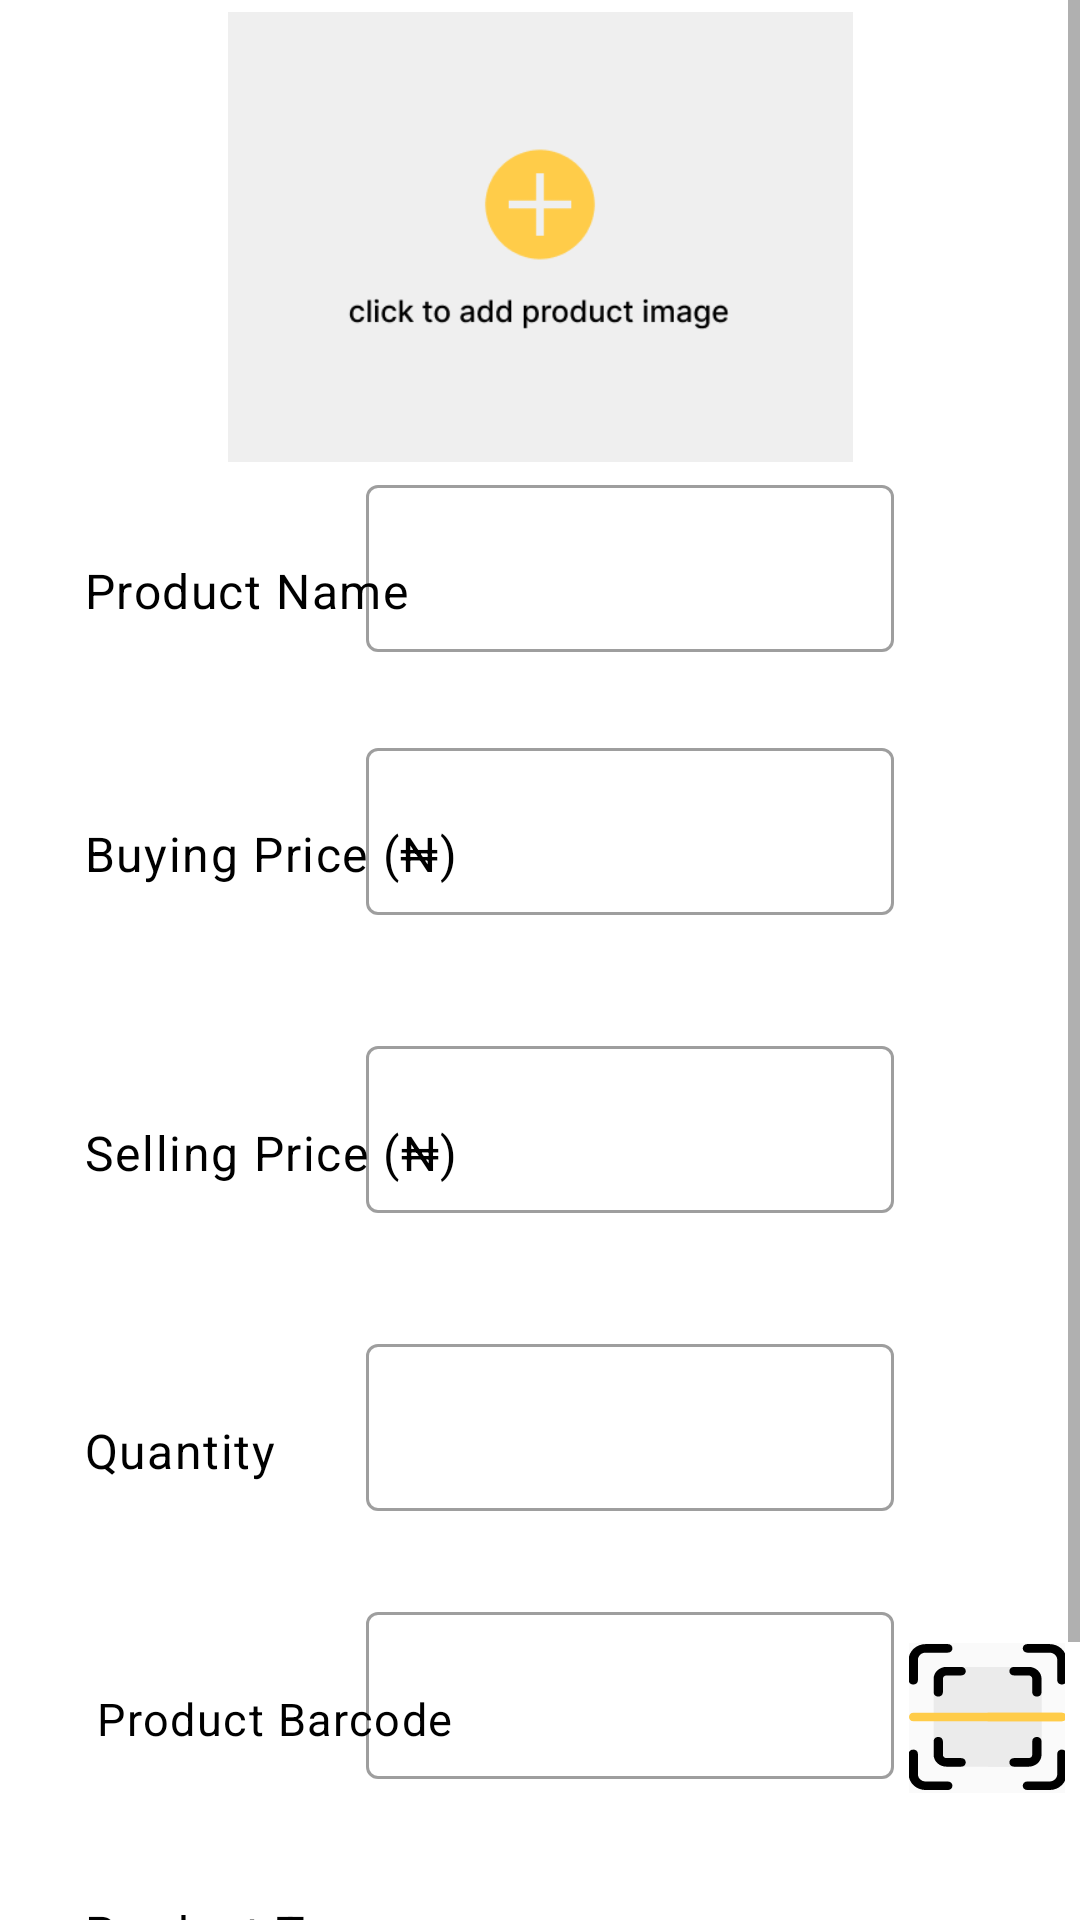

Screen size 1080 x 1920. Icon name, then its center in pixels as (x,y):
scanner: (987,1717)
